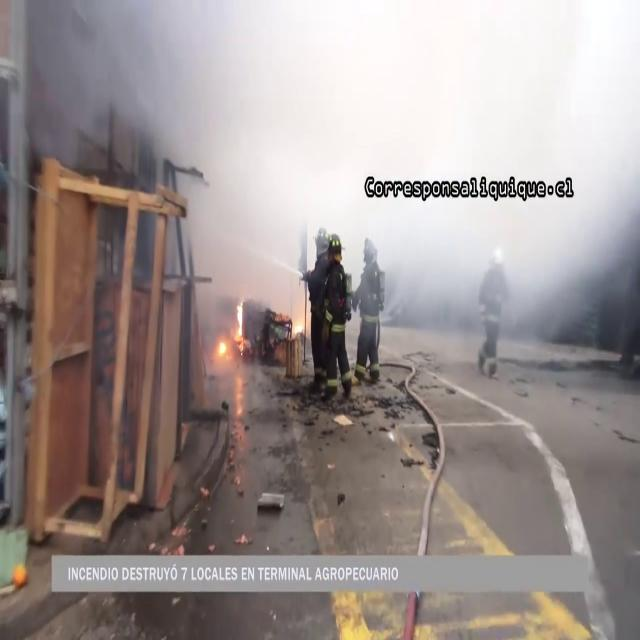Fire: (215, 297, 247, 368)
Smoke: (357, 1, 640, 361), (87, 0, 415, 308)
